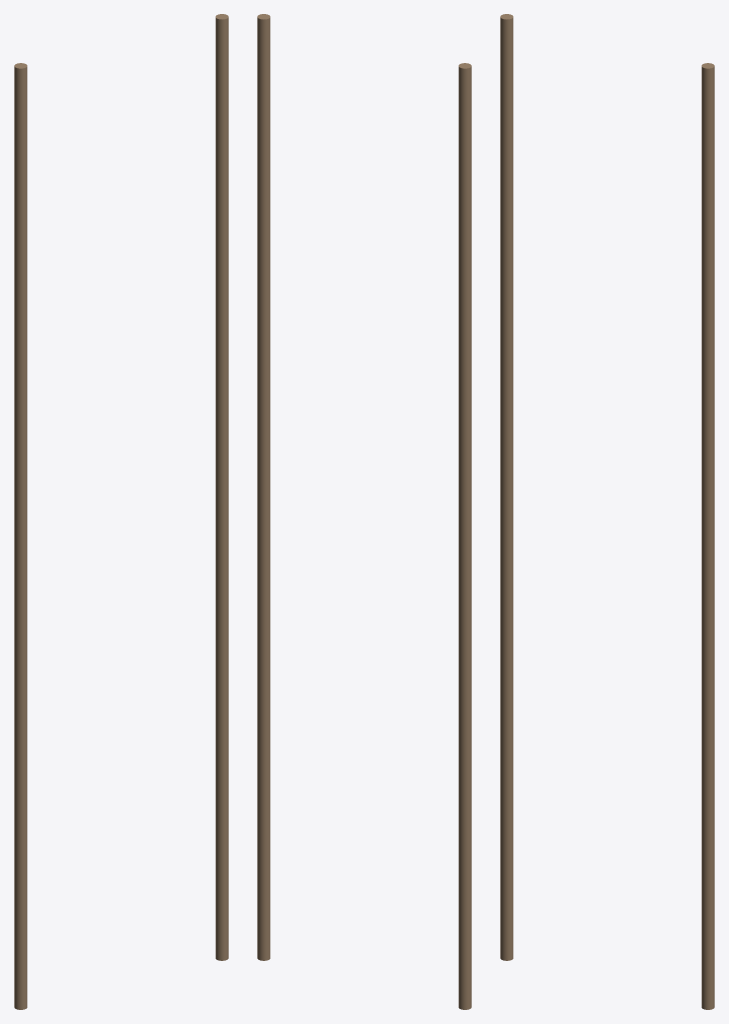
File: utility_pole.glb
The picture shows the model from 3 angles, left to right: view 1: azimuth 30°, elevation 25°; view 2: azimuth 150°, elevation 25°; view 3: azimuth 330°, elevation 25°; orthographic projection.
Parts seen in each view (by area): view 1: body; view 2: body; view 3: body.
Part boxes in pixels (left/top/right/bottom): body: left=14, top=14, right=228, bottom=1009; body: left=257, top=14, right=471, bottom=1009; body: left=500, top=14, right=714, bottom=1009.
Bounding box in the file's own units: 5.15 × 21.8 × 0.2768.
